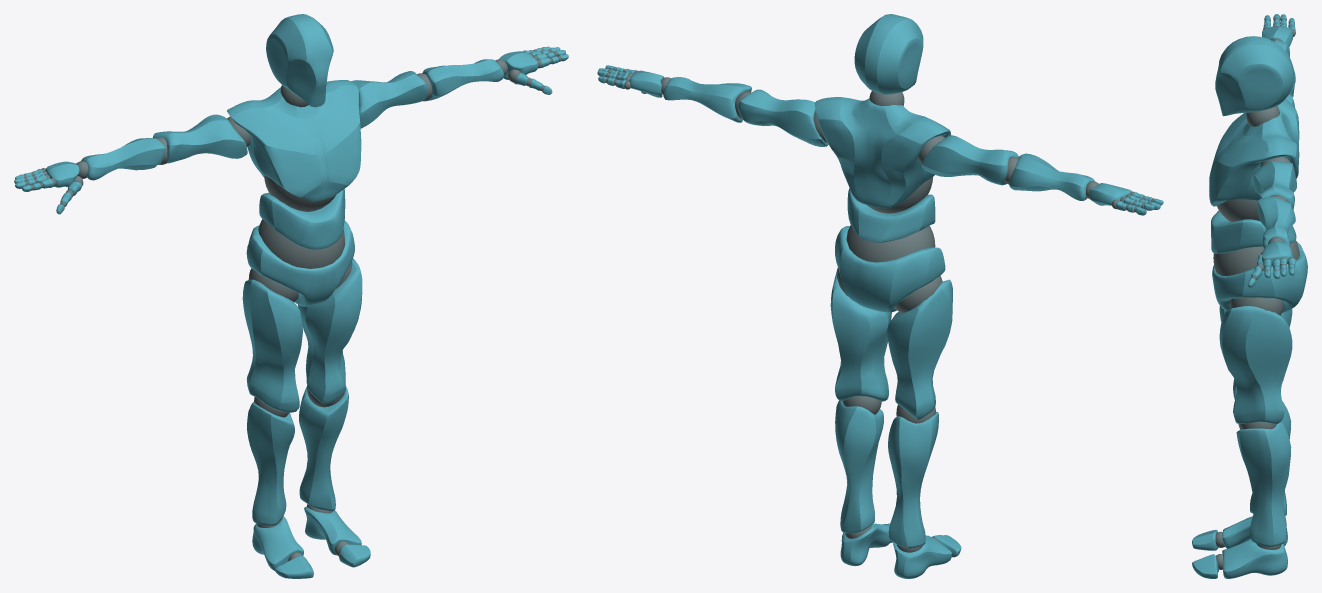
Rendered from skeleton.glb.
The picture shows the model from 3 angles, left to right: view 1: azimuth 30°, elevation 25°; view 2: azimuth 150°, elevation 25°; view 3: azimuth 270°, elevation 25°; orthographic projection. The views are drawn at different scales.
Parts seen in each view (by area): view 1: skeleton, rt-femur, Alpha_Joints.001, rt-tibia, rt-tarsals; view 2: skeleton, rt-femur, Alpha_Joints.001, rt-tibia, rt-tarsals; view 3: skeleton, Alpha_Joints.001, rt-tarsals, rt-metatarsals, rt-tibia, rt-femur.
Boxes of the visible parts, x1,y1,x2,y2 form: skeleton: [14, 14, 568, 567]; rt-femur: [242, 279, 302, 412]; Alpha_Joints.001: [23, 48, 561, 560]; rt-tibia: [247, 402, 294, 525]; rt-tarsals: [252, 516, 303, 570]; skeleton: [597, 14, 1163, 566]; rt-femur: [887, 279, 952, 419]; Alpha_Joints.001: [605, 67, 1154, 552]; rt-tibia: [888, 412, 938, 548]; rt-tarsals: [893, 535, 951, 578]; skeleton: [1192, 14, 1307, 578]; Alpha_Joints.001: [1213, 17, 1299, 569]; rt-tarsals: [1222, 516, 1287, 548]; rt-metatarsals: [1192, 530, 1218, 550]; rt-tibia: [1238, 401, 1291, 515]; rt-femur: [1219, 306, 1292, 399].
Bounding box in the file's own units: 1.95 × 1.8 × 0.3643.
